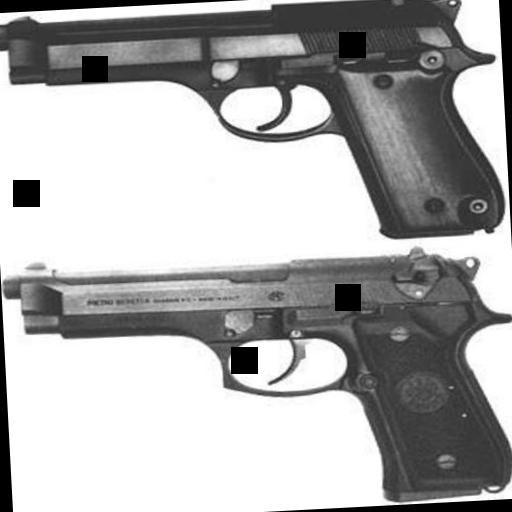Handgun: (0, 235, 512, 512), (0, 0, 504, 259)
